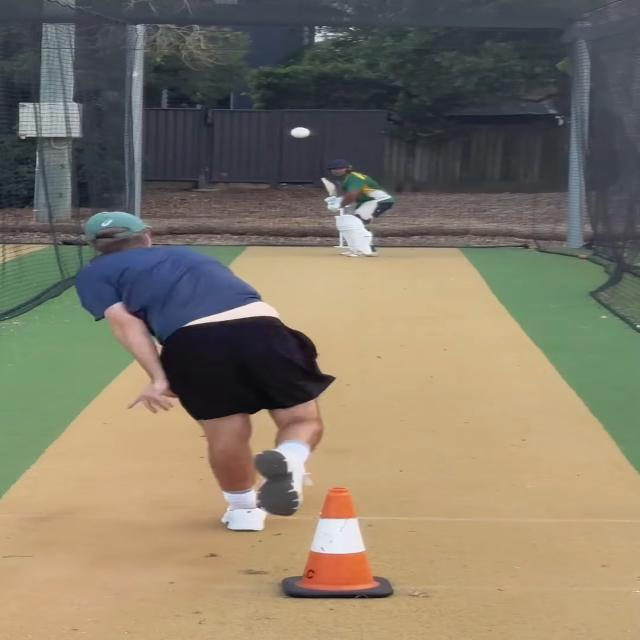Cricket ball: (288, 124, 314, 140)
